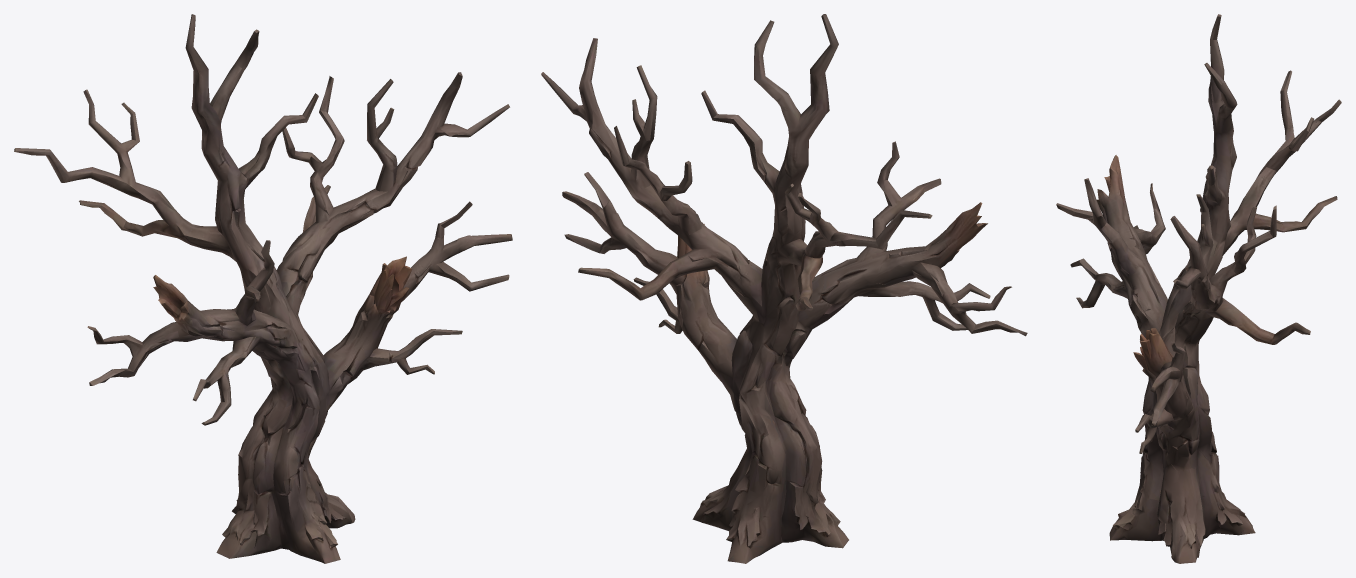
File: tree_dead_bare_b_idle.glb
3 renders of one model, left to right at view 1: azimuth 30°, elevation 25°; view 2: azimuth 150°, elevation 25°; view 3: azimuth 270°, elevation 25°, orthographic. The views are drawn at different scales.
Visible parts, largest first — view 1: tripo_node_e394d8bc-cd8f-4caf-95b3-dc6270437592; view 2: tripo_node_e394d8bc-cd8f-4caf-95b3-dc6270437592; view 3: tripo_node_e394d8bc-cd8f-4caf-95b3-dc6270437592.
Boxes of the visible parts, x1=… form: tripo_node_e394d8bc-cd8f-4caf-95b3-dc6270437592: x1=14, y1=14, x2=512, y2=563; tripo_node_e394d8bc-cd8f-4caf-95b3-dc6270437592: x1=541, y1=14, x2=1027, y2=563; tripo_node_e394d8bc-cd8f-4caf-95b3-dc6270437592: x1=1056, y1=14, x2=1341, y2=563.
Size of the model in its own units: 4.4 by 5 by 2.66.
Materials: 1 (1 with a texture image).
